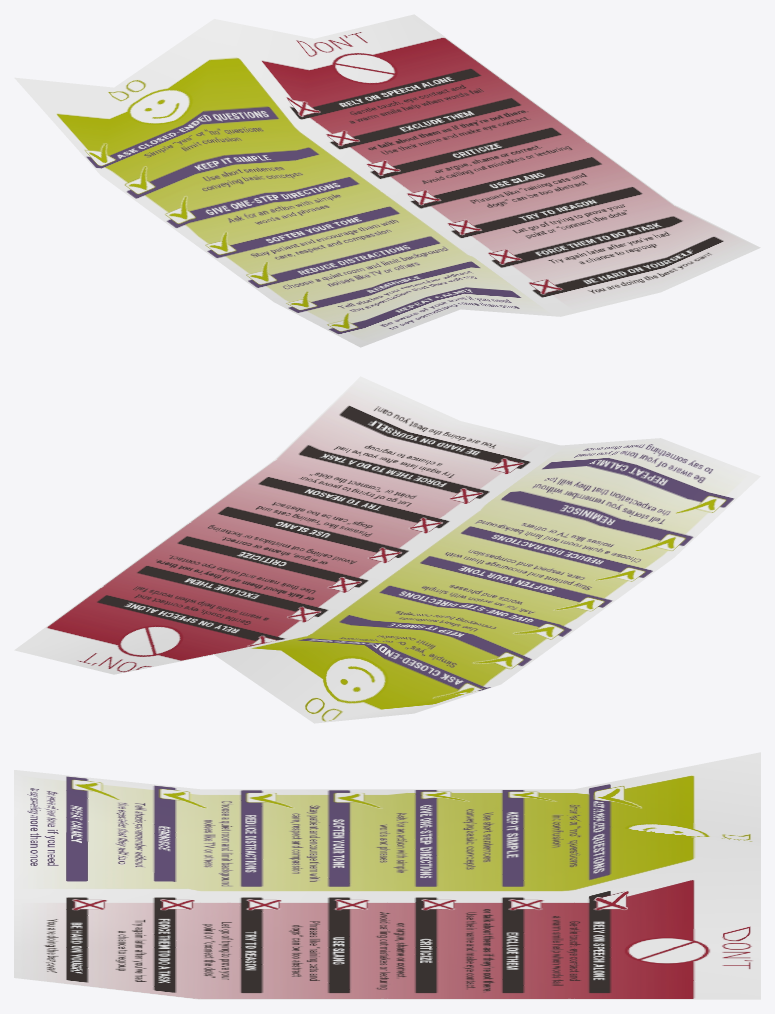
The model's file is poster.glb.
3 renders of one model, top to bottom at view 1: azimuth 30°, elevation 25°; view 2: azimuth 150°, elevation 25°; view 3: azimuth 270°, elevation 25°, orthographic. The views are drawn at different scales.
Parts seen in each view (by area): view 1: SM_Papers_05; view 2: SM_Papers_05; view 3: SM_Papers_05.
Part boxes in pixels (x1=…): SM_Papers_05: x1=14, y1=14, x2=760, y2=347; SM_Papers_05: x1=14, y1=376, x2=760, y2=723; SM_Papers_05: x1=14, y1=752, x2=760, y2=999.
Bounding box in the file's own units: 0.1733 × 0.0183 × 0.2598.
1 material, 1 textured.
